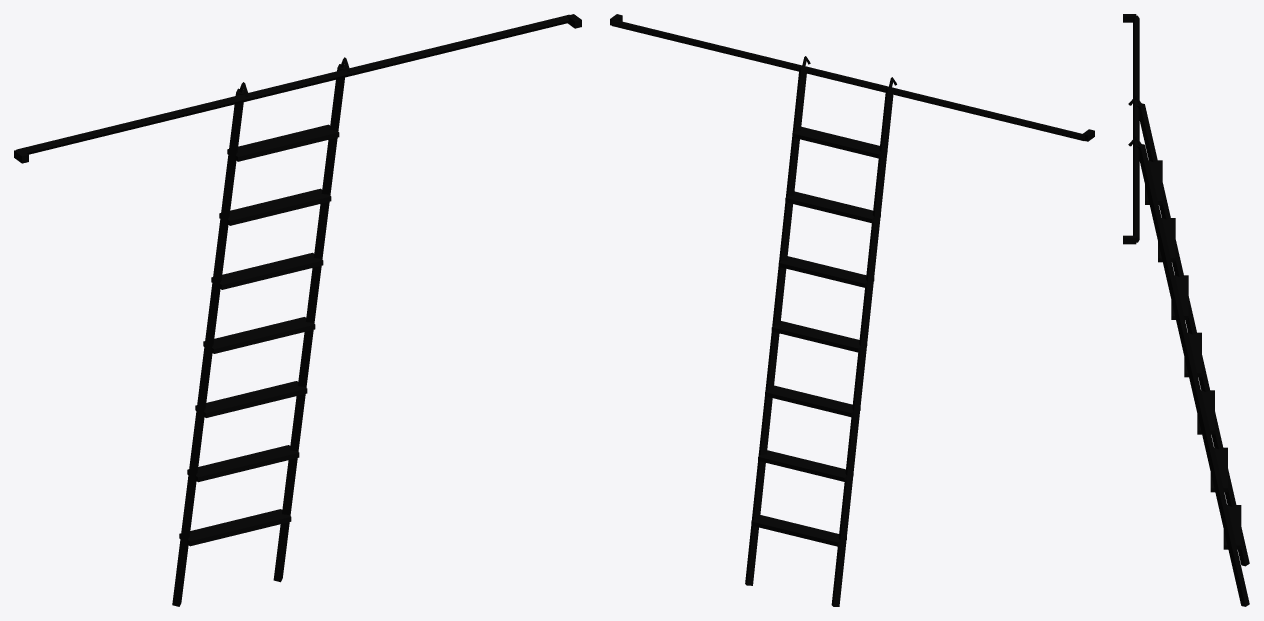
The model's file is SM_ladder_library.fbx.
3 views of the same model, side by side, from view 1: azimuth 30°, elevation 25°; view 2: azimuth 150°, elevation 25°; view 3: azimuth 270°, elevation 25° (orthographic). The views are drawn at different scales.
Parts seen in each view (by area): view 1: ladder_library_ladder, ladder_library; view 2: ladder_library_ladder, ladder_library; view 3: ladder_library_ladder, ladder_library.
Part boxes in pixels (bbox=[...]): ladder_library_ladder: bbox=[172, 57, 350, 606]; ladder_library: bbox=[14, 14, 581, 163]; ladder_library_ladder: bbox=[745, 56, 896, 606]; ladder_library: bbox=[610, 14, 1094, 141]; ladder_library_ladder: bbox=[1128, 95, 1249, 606]; ladder_library: bbox=[1123, 14, 1139, 244].
Size of the model in its own units: 2.43 by 2.37 by 0.5796.
